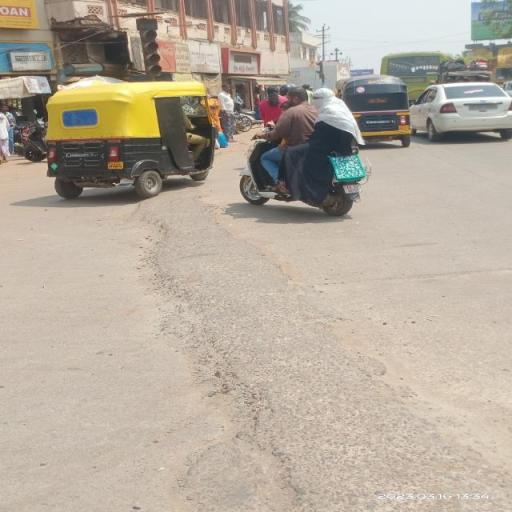bike: (234, 83, 380, 216)
numberplate: (342, 183, 365, 195)
withouthelmet: (286, 87, 308, 106), (313, 88, 333, 108)
